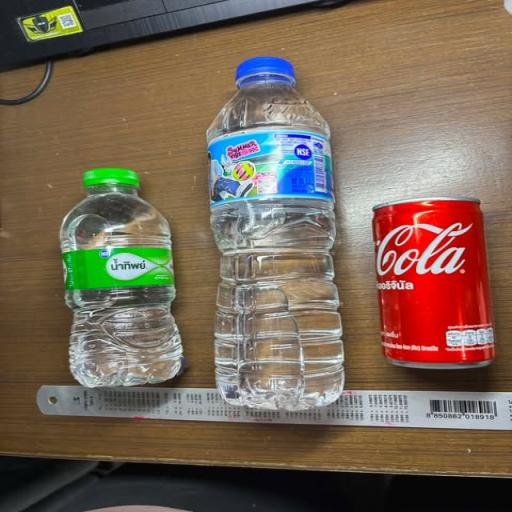bottle: (203, 43, 353, 430), (38, 160, 202, 400)
canned: (358, 190, 502, 378)
